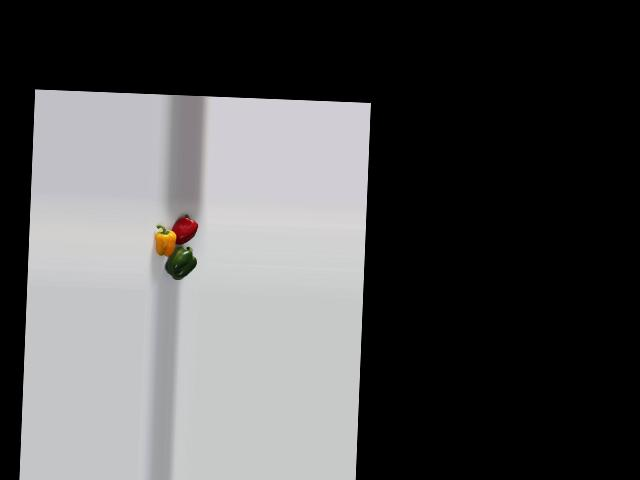bell_pepper: (152, 224, 181, 257)
